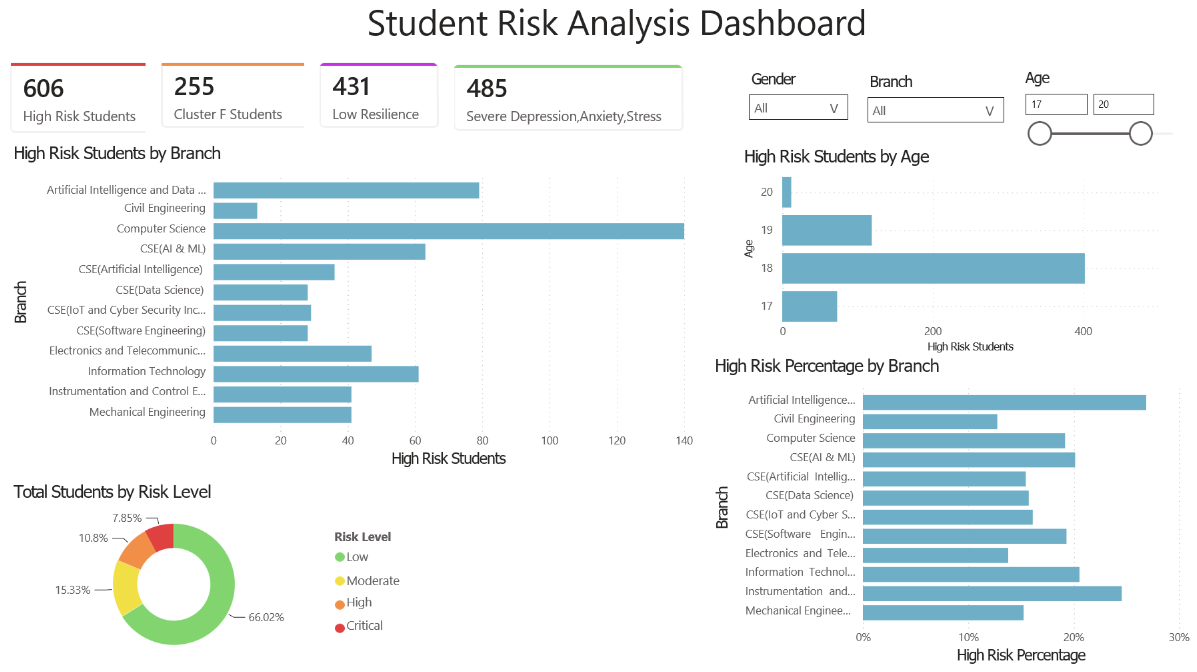

Layout of this report page (visuals, bound fields, positions):
{"tool":"powerbi","page":{"name":"Student Risk Analysis ","canvas":[1280,720],"ordinal":3},"visuals":[{"type":"slicer","fields":{"Values":["processing.Age"]},"box":[1085.6,77.5,193.9,162.8],"z":0},{"type":"cardVisual","fields":{"Data":["processing.Severe Depression,Anxiety,Stress"]},"box":[473,58.9,277.6,103.9],"z":1000},{"type":"textbox","box":[138.3,0,1053.7,61.1],"z":2000},{"type":"cardVisual","fields":{"Data":["processing.High Risk Students"]},"box":[0,57.4,198.5,107],"z":3000},{"type":"cardVisual","fields":{"Data":["processing.Cluster F Students"]},"box":[161.3,57.4,198.5,102.4],"z":4000},{"type":"cardVisual","fields":{"Data":["processing.Low Resilience"]},"box":[330.3,57.4,159.7,102.4],"z":5000},{"type":"clusteredBarChart","fields":{"Category":["processing.Branch"],"Y":["processing.High Risk Students"]},"box":[15.1,160.5,734.4,348.3],"z":6000},{"type":"clusteredBarChart","fields":{"Category":["processing.Age"],"Y":["processing.High Risk Students"]},"box":[794.1,164.4,462.2,223.3],"z":7000},{"type":"donutChart","fields":{"Category":["processing.Risk Level"],"Y":["CountNonNull(processing.Risk Level)"]},"box":[15.1,522.4,431.5,196.8],"z":8000},{"type":"clusteredBarChart","fields":{"Category":["processing.Branch"],"Y":["processing.High Risk Percentage"]},"box":[763.2,387.6,516.3,331.6],"z":9000},{"type":"slicer","fields":{"Values":["processing.Branch"]},"box":[919.7,82.2,165.9,58.9],"z":10000},{"type":"slicer","fields":{"Values":["processing.Gender"]},"box":[794.1,79.1,125.6,58.9],"z":11000}]}

Visuals, with their boxes in screenshot pixels (x1, y1, x2, y2), scaled from the page's 1280x720 canvas onto the 1197x672 screenshot:
slicer - processing.Age: [1015,72,1196,224]
cardVisual - processing.Severe Depression,Anxiety,Stress: [442,55,702,152]
textbox: [129,0,1115,57]
cardVisual - processing.High Risk Students: [0,54,186,153]
cardVisual - processing.Cluster F Students: [151,54,336,149]
cardVisual - processing.Low Resilience: [309,54,458,149]
clusteredBarChart - processing.Branch x processing.High Risk Students: [14,150,701,475]
clusteredBarChart - processing.Age x processing.High Risk Students: [743,153,1175,362]
donutChart - processing.Risk Level x CountNonNull(processing.Risk Level): [14,488,418,671]
clusteredBarChart - processing.Branch x processing.High Risk Percentage: [714,362,1196,671]
slicer - processing.Branch: [860,77,1015,132]
slicer - processing.Gender: [743,74,860,129]
